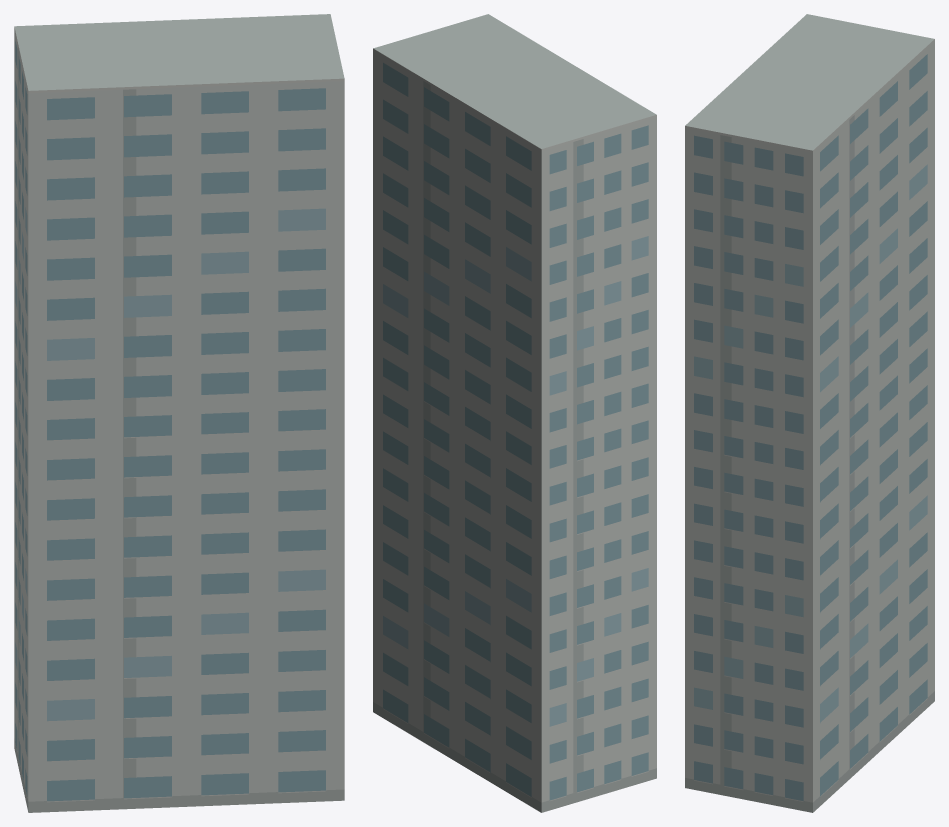
Rendered from residential-db2d3ae0-b202-4fb7-b2fd-39f86d619f8b.glb.
3 renders of one model, left to right at view 1: azimuth 30°, elevation 25°; view 2: azimuth 150°, elevation 25°; view 3: azimuth 270°, elevation 25°, orthographic. The views are drawn at different scales.
Visible parts, largest first — view 1: residential-db2d3ae0-b202-4fb7-b2fd-39f86d619f8b.tmp; view 2: residential-db2d3ae0-b202-4fb7-b2fd-39f86d619f8b.tmp; view 3: residential-db2d3ae0-b202-4fb7-b2fd-39f86d619f8b.tmp.
Boxes of the visible parts, box(x1,y1,x2,y2) form: residential-db2d3ae0-b202-4fb7-b2fd-39f86d619f8b.tmp: box(14, 14, 344, 812); residential-db2d3ae0-b202-4fb7-b2fd-39f86d619f8b.tmp: box(373, 14, 656, 812); residential-db2d3ae0-b202-4fb7-b2fd-39f86d619f8b.tmp: box(685, 14, 934, 812).
Bounding box in the file's own units: 30.99 × 70 × 23.94.
